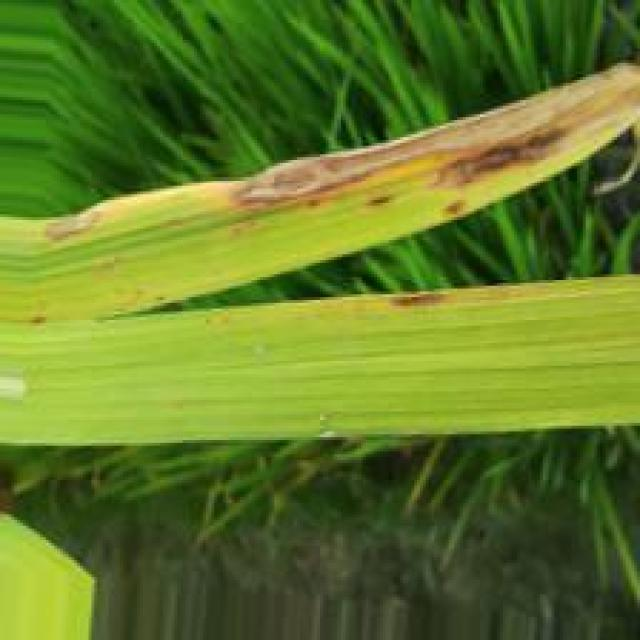Leaf_Scald: (226, 68, 613, 213), (386, 292, 458, 308)
